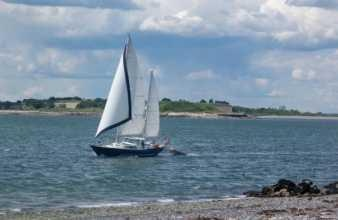fanchuan: (86, 32, 175, 158)
